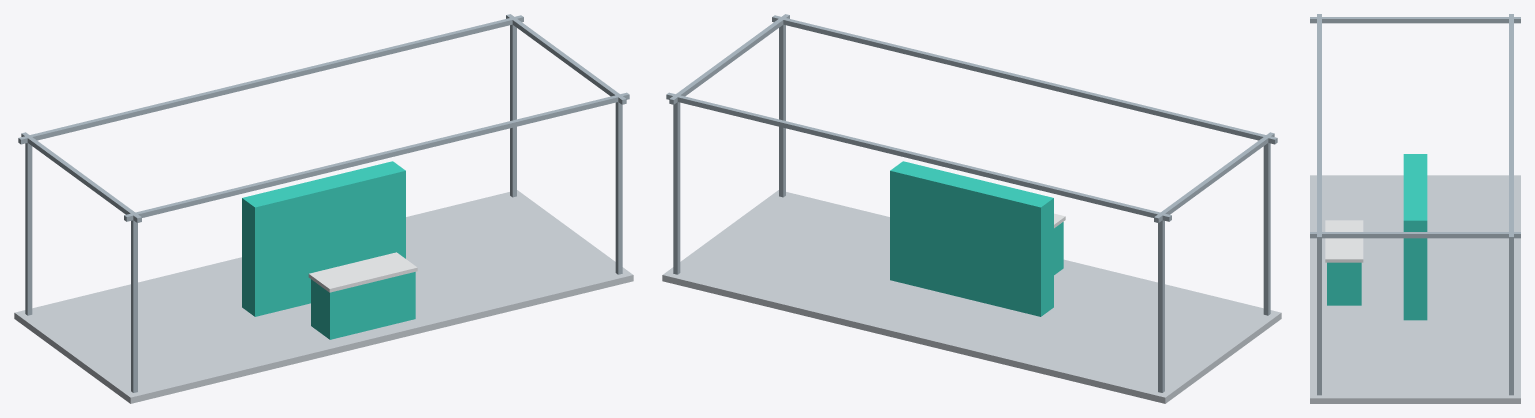
3 views of the same model, side by side, from view 1: azimuth 30°, elevation 25°; view 2: azimuth 150°, elevation 25°; view 3: azimuth 270°, elevation 25° (orthographic). The views are drawn at different scales.
Parts seen in each view (by area): view 1: Exhibition Booth Concept; view 2: Exhibition Booth Concept; view 3: Exhibition Booth Concept.
Part boxes in pixels (left/top/right/bottom): Exhibition Booth Concept: left=14, top=14, right=633, bottom=403; Exhibition Booth Concept: left=662, top=14, right=1281, bottom=403; Exhibition Booth Concept: left=1310, top=14, right=1520, bottom=403.
Size of the model in its own units: 10 by 3.49 by 4.
